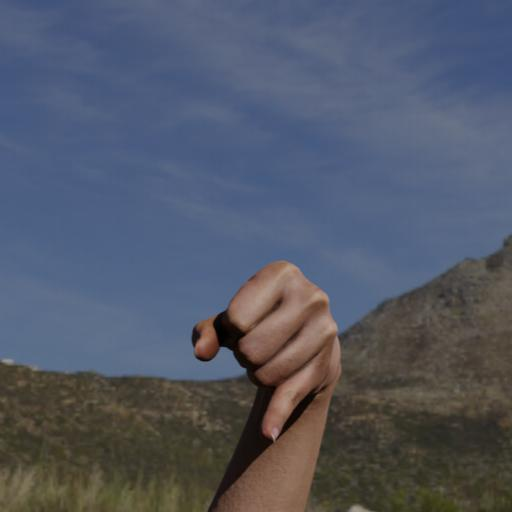J: (170, 198, 420, 465)
